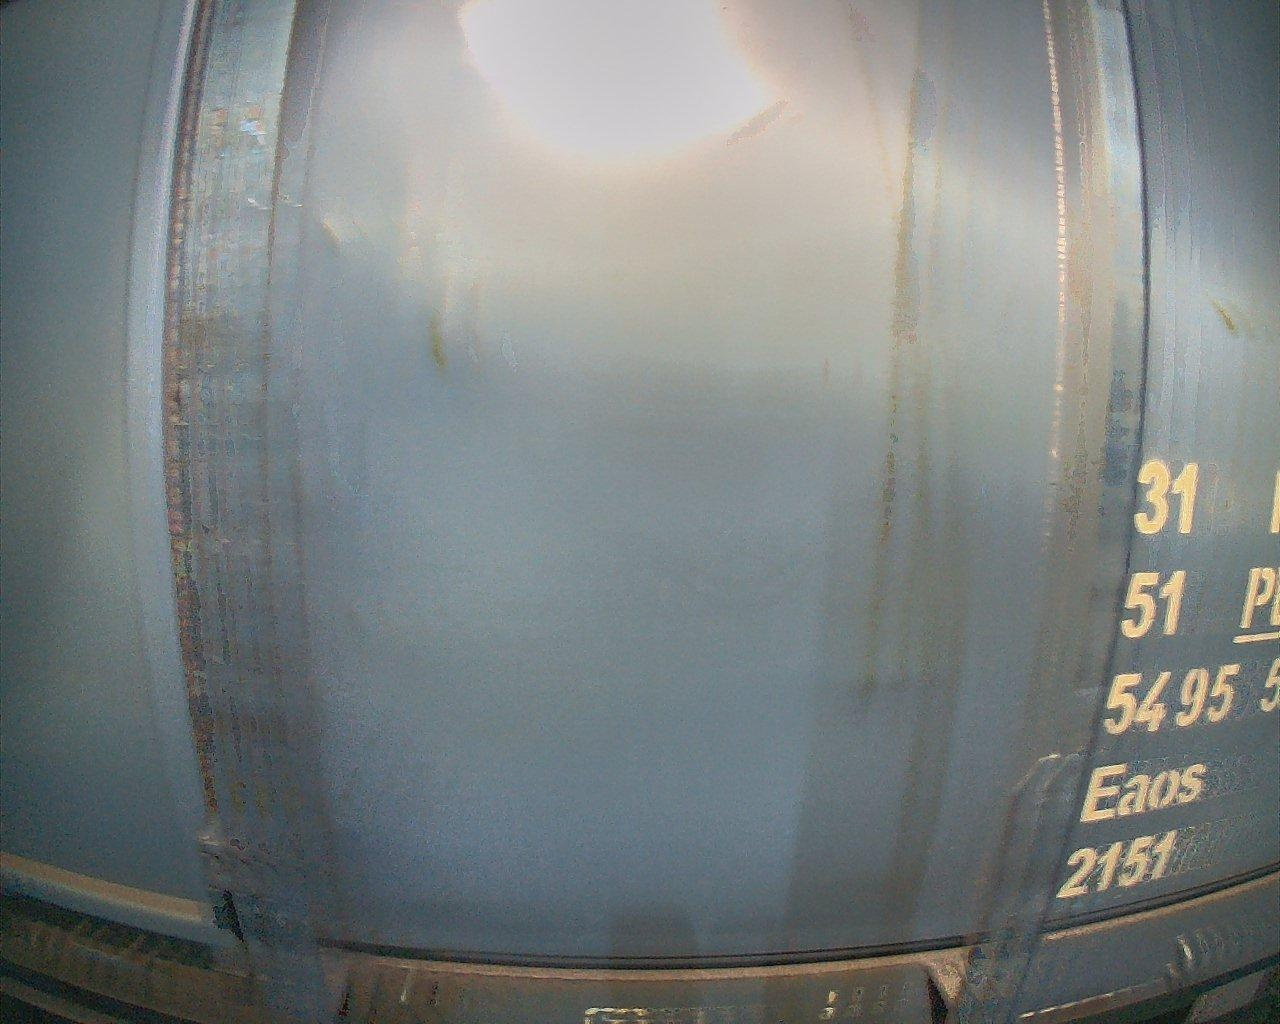UIC: (1051, 455, 1280, 906)
